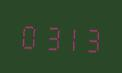one: (60, 20, 80, 54)
three: (39, 18, 59, 52), (81, 21, 101, 55)
zero: (18, 17, 38, 51)
